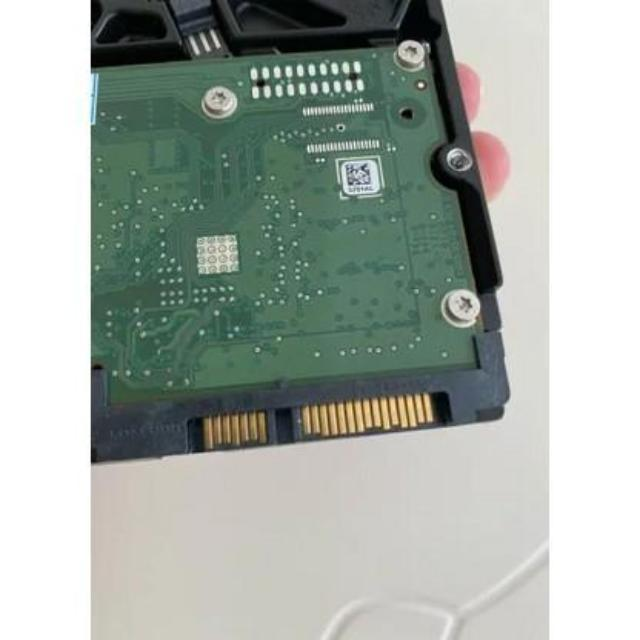DISK: (78, 0, 518, 482)
